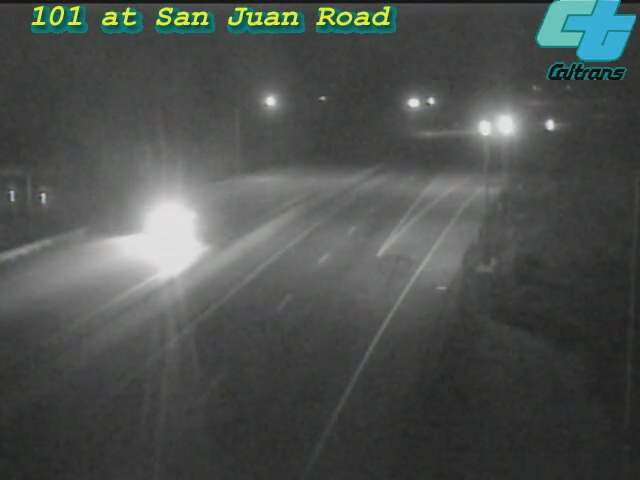vehicle: (137, 176, 217, 256), (526, 101, 576, 151), (459, 104, 509, 154), (479, 100, 529, 150)
